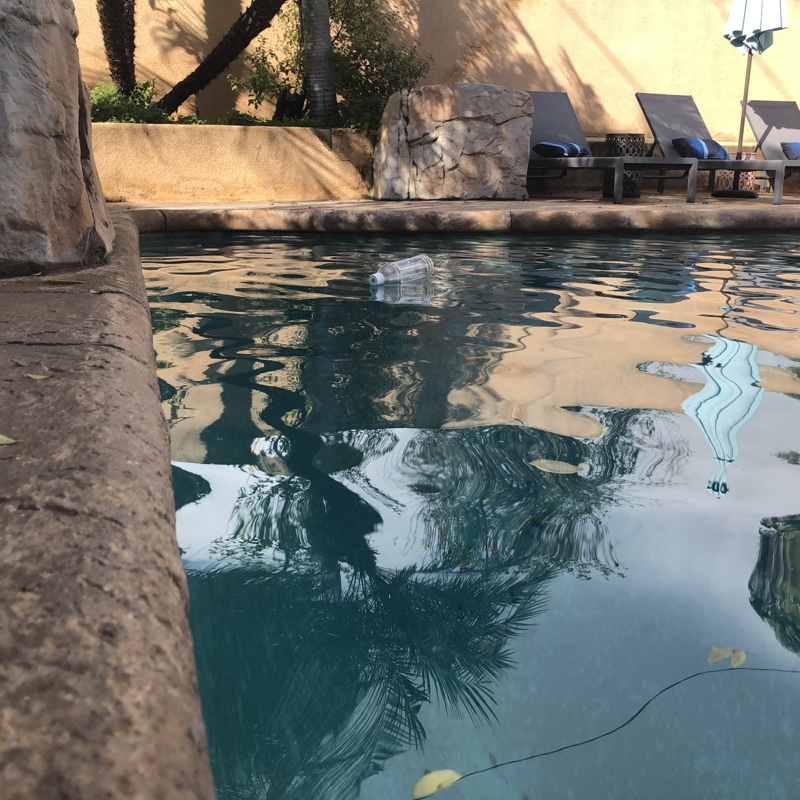Plastic Bottle: (367, 254, 438, 287)
